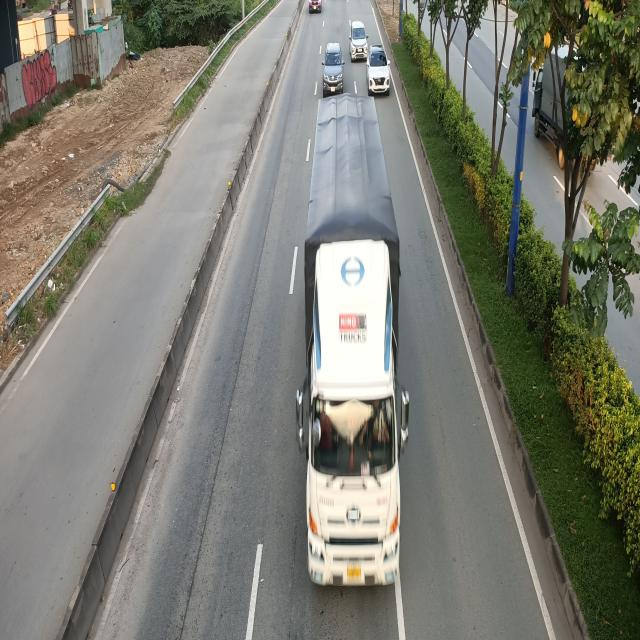car: (366, 46, 393, 96), (322, 42, 346, 95), (348, 21, 368, 61)
truck: (301, 97, 416, 588)
